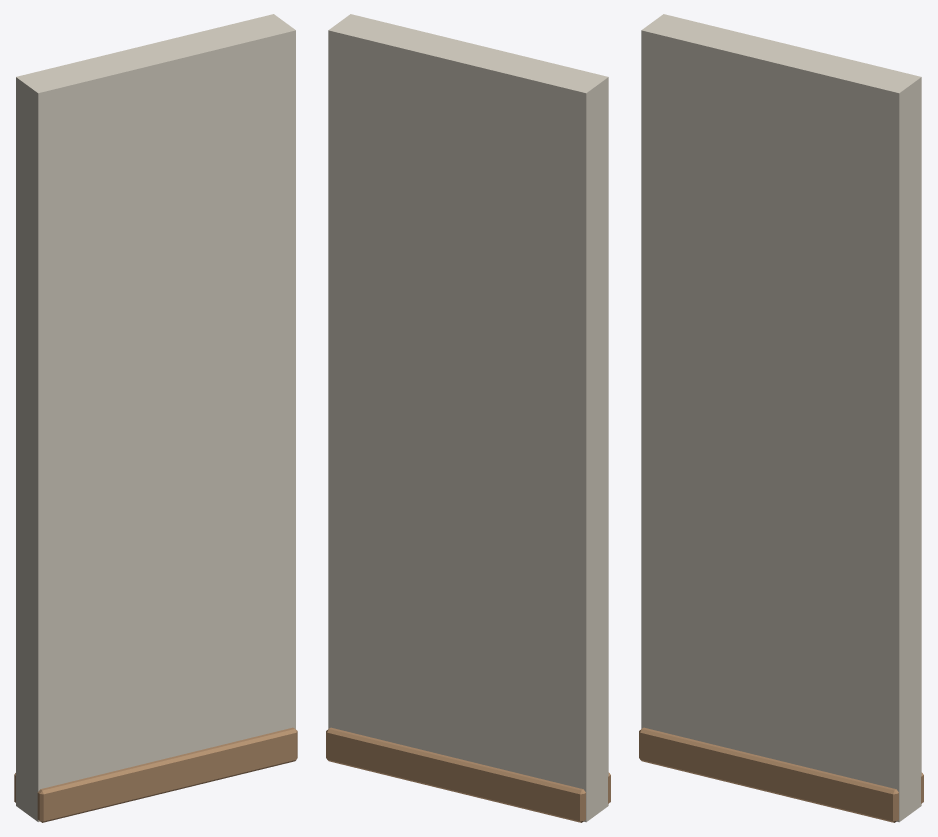
File: cozy-home-interiors-wall-straight-1m-36e278fd.glb
3 views of the same model, side by side, from view 1: azimuth 30°, elevation 25°; view 2: azimuth 150°, elevation 25°; view 3: azimuth 330°, elevation 25° (orthographic).
Parts seen in each view (by area): view 1: wall-straight-1m; view 2: wall-straight-1m; view 3: wall-straight-1m.
Boxes of the visible parts, left/top/right/bottom form: wall-straight-1m: left=14, top=14, right=297, bottom=822; wall-straight-1m: left=326, top=14, right=610, bottom=822; wall-straight-1m: left=639, top=14, right=923, bottom=822.
Bounding box in the file's own units: 1 × 2.7 × 0.1949.
